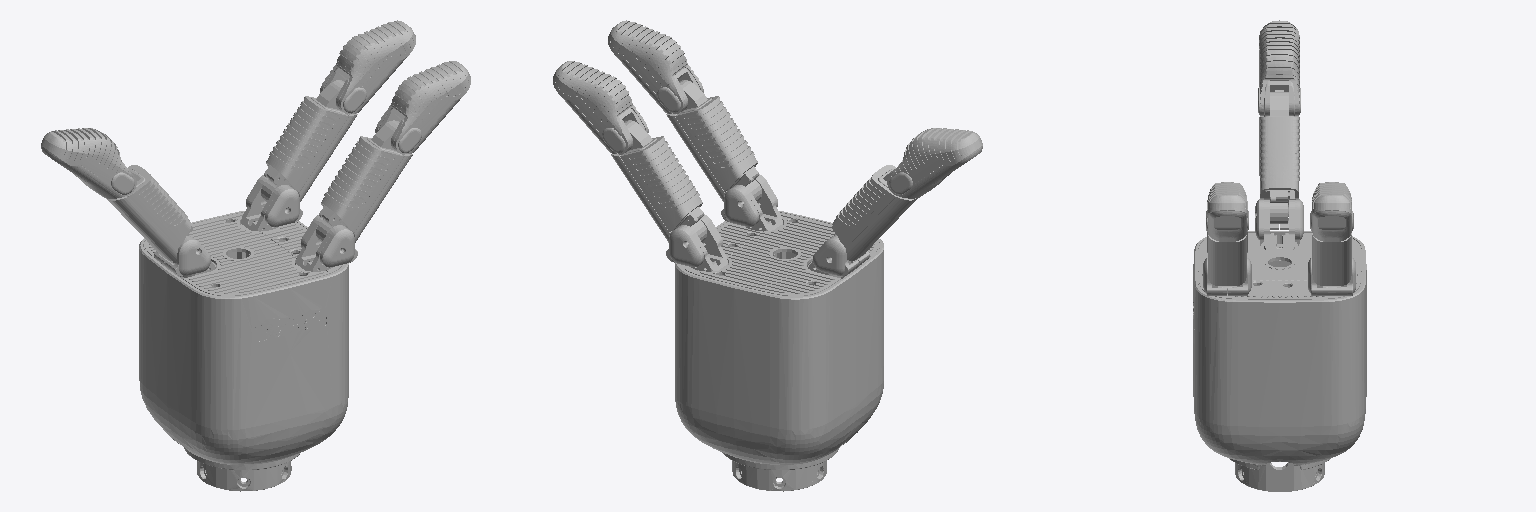
robot.urdf — coordinate4:
<?xml version="1.0" encoding="utf-8"?>
<!-- This URDF was automatically created by SolidWorks to URDF Exporter! Originally created by [author] ([email redacted]) 
     Commit Version: 1.6.0-4-g7f85cfe  Build Version: 1.6.7995.38578
     For more information, please see http://wiki.ros.org/sw_urdf_exporter -->
<robot
  name="coordinate4">
    <mujoco>
        <compiler 
        meshdir="../meshes" 
        balanceinertia="true" 
        discardvisual="false" />
  </mujoco>
  <link
    name="base_link">
    <inertial>
      <origin
        xyz="-0.00191677588032353 0.000174775635514336 0.0575139361931344"
        rpy="0 0 0" />
      <mass
        value="0.0984427785970004" />
      <inertia
        ixx="0.000148420378117239"
        ixy="3.97911918191049E-08"
        ixz="-8.27914969072719E-07"
        iyy="0.000140839054736399"
        iyz="-1.36911367834387E-07"
        izz="0.000141310117768838" />
    </inertial>
    <visual>
      <origin
        xyz="0 0 0"
        rpy="0 0 0" />
      <geometry>
        <mesh
          filename="package://coordinate4/meshes/base_link.STL" />
      </geometry>
      <material
        name="">
        <color
          rgba="0.752941176470588 0.752941176470588 0.752941176470588 1" />
      </material>
    </visual>
    <collision>
      <origin
        xyz="0 0 0"
        rpy="0 0 0" />
      <geometry>
        <mesh
          filename="package://coordinate4/meshes/base_link.STL" />
      </geometry>
    </collision>
  </link>
  <link
    name="link_f_1_2">
    <inertial>
      <origin
        xyz="0.0305572820573811 0.00186805458758646 -4.61996777537284E-06"
        rpy="0 0 0" />
      <mass
        value="0.00558145199789848" />
      <inertia
        ixx="2.97513301075175E-07"
        ixy="2.37439658923356E-08"
        ixz="2.44785040861203E-11"
        iyy="9.69242653369277E-07"
        iyz="-1.20191465847787E-11"
        izz="7.94112897407102E-07" />
    </inertial>
    <visual>
      <origin
        xyz="0 0 0"
        rpy="0 0 0" />
      <geometry>
        <mesh
          filename="package://coordinate4/meshes/link_f_1_2.STL" />
      </geometry>
      <material
        name="">
        <color
          rgba="0.752941176470588 0.752941176470588 0.752941176470588 1" />
      </material>
    </visual>
    <collision>
      <origin
        xyz="0 0 0"
        rpy="0 0 0" />
      <geometry>
        <mesh
          filename="package://coordinate4/meshes/link_f_1_2.STL" />
      </geometry>
    </collision>
  </link>
  <joint
    name="joint_f_1_2"
    type="revolute">
    <origin
      xyz="-0.0327008469900898 -0.000169468662848272 0.118401190998376"
      rpy="1.57079632679489 -0.911548765538365 3.14159264750984" />
    <parent
      link="base_link" />
    <child
      link="link_f_1_2" />
    <axis
      xyz="0 0 -1" />
    <limit
      lower="0"
      upper="0"
      effort="0"
      velocity="0" />
  </joint>
  <link
    name="link_f_1_3">
    <inertial>
      <origin
        xyz="0.0183787576712912 -0.00263032646592448 1.44924118507424E-06"
        rpy="0 0 0" />
      <mass
        value="0.00791151337363391" />
      <inertia
        ixx="4.6367463428106E-07"
        ixy="2.28523201882992E-07"
        ixz="1.49943815806137E-10"
        iyy="1.08682310565097E-06"
        iyz="-3.22539318167443E-11"
        izz="9.85673470581272E-07" />
    </inertial>
    <visual>
      <origin
        xyz="0 0 0"
        rpy="0 0 0" />
      <geometry>
        <mesh
          filename="package://coordinate4/meshes/link_f_1_3.STL" />
      </geometry>
      <material
        name="">
        <color
          rgba="0.752941176470588 0.752941176470588 0.752941176470588 1" />
      </material>
    </visual>
    <collision>
      <origin
        xyz="0 0 0"
        rpy="0 0 0" />
      <geometry>
        <mesh
          filename="package://coordinate4/meshes/link_f_1_3.STL" />
      </geometry>
    </collision>
  </link>
  <joint
    name="joint_f_1_3"
    type="revolute">
    <origin
      xyz="0.0566267969313633 0 0"
      rpy="0 0 0" />
    <parent
      link="link_f_1_2" />
    <child
      link="link_f_1_3" />
    <axis
      xyz="0 0 1" />
    <limit
      lower="0"
      upper="0"
      effort="0"
      velocity="0" />
  </joint>
  <link
    name="link_f_3_1">
    <inertial>
      <origin
        xyz="0.00518832571446791 0.000406680714066743 0.00716904401231155"
        rpy="0 0 0" />
      <mass
        value="0.0033857664225669" />
      <inertia
        ixx="1.87946231932708E-07"
        ixy="-2.66209160359618E-09"
        ixz="4.78387961289793E-08"
        iyy="2.21589396599336E-07"
        iyz="2.49049023659792E-09"
        izz="1.72755257875261E-07" />
    </inertial>
    <visual>
      <origin
        xyz="0 0 0"
        rpy="0 0 0" />
      <geometry>
        <mesh
          filename="package://coordinate4/meshes/link_f_3_1.STL" />
      </geometry>
      <material
        name="">
        <color
          rgba="0.752941176470588 0.752941176470588 0.752941176470588 1" />
      </material>
    </visual>
    <collision>
      <origin
        xyz="0 0 0"
        rpy="0 0 0" />
      <geometry>
        <mesh
          filename="package://coordinate4/meshes/link_f_3_1.STL" />
      </geometry>
    </collision>
  </link>
  <joint
    name="joint_f_3_1"
    type="revolute">
    <origin
      xyz="0.0229304804089818 -0.025131187879906 0.122110541735432"
      rpy="-3.14159265358978 0 0" />
    <parent
      link="base_link" />
    <child
      link="link_f_3_1" />
    <axis
      xyz="0 0 1" />
    <limit
      lower="0"
      upper="0"
      effort="0"
      velocity="0" />
  </joint>
  <link
    name="link_f_3_2">
    <inertial>
      <origin
        xyz="0.0268912864960582 0.00120182731331328 -4.62037826272702E-06"
        rpy="0 0 0" />
      <mass
        value="0.00558145376336512" />
      <inertia
        ixx="2.96739162405885E-07"
        ixy="6.56766703452091E-09"
        ixz="2.47374045865073E-11"
        iyy="9.70016904142213E-07"
        iyz="-1.13962891063174E-11"
        izz="7.9411294307384E-07" />
    </inertial>
    <visual>
      <origin
        xyz="0 0 0"
        rpy="0 0 0" />
      <geometry>
        <mesh
          filename="package://coordinate4/meshes/link_f_3_2.STL" />
      </geometry>
      <material
        name="">
        <color
          rgba="0.752941176470588 0.752941176470588 0.752941176470588 1" />
      </material>
    </visual>
    <collision>
      <origin
        xyz="0 0 0"
        rpy="0 0 0" />
      <geometry>
        <mesh
          filename="package://coordinate4/meshes/link_f_3_2.STL" />
      </geometry>
    </collision>
  </link>
  <joint
    name="joint_f_3_2"
    type="revolute">
    <origin
      xyz="0.00893269178656805 0 0"
      rpy="-1.57079632679489 0.886013477281569 0" />
    <parent
      link="link_f_3_1" />
    <child
      link="link_f_3_2" />
    <axis
      xyz="0 0 1" />
    <limit
      lower="0"
      upper="0"
      effort="0"
      velocity="0" />
  </joint>
  <link
    name="link_f_3_3">
    <inertial>
      <origin
        xyz="0.0184399249425371 -0.0021602131872714 1.44917369601302E-06"
        rpy="0 0 0" />
      <mass
        value="0.00791151346718725" />
      <inertia
        ixx="4.52415134496375E-07"
        ixy="2.12319889143749E-07"
        ixz="1.50721386324119E-10"
        iyy="1.0980826098443E-06"
        iyz="-2.84154770367718E-11"
        izz="9.85673468845333E-07" />
    </inertial>
    <visual>
      <origin
        xyz="0 0 0"
        rpy="0 0 0" />
      <geometry>
        <mesh
          filename="package://coordinate4/meshes/link_f_3_3.STL" />
      </geometry>
      <material
        name="">
        <color
          rgba="0.752941176470588 0.752941176470588 0.752941176470588 1" />
      </material>
    </visual>
    <collision>
      <origin
        xyz="0 0 0"
        rpy="0 0 0" />
      <geometry>
        <mesh
          filename="package://coordinate4/meshes/link_f_3_3.STL" />
      </geometry>
    </collision>
  </link>
  <joint
    name="joint_f_3_3"
    type="revolute">
    <origin
      xyz="0.0530000001597184 0 0"
      rpy="0 0 0" />
    <parent
      link="link_f_3_2" />
    <child
      link="link_f_3_3" />
    <axis
      xyz="0 0 -1" />
    <limit
      lower="0"
      upper="0"
      effort="0"
      velocity="0" />
  </joint>
  <link
    name="link_f_2_1">
    <inertial>
      <origin
        xyz="0.00518832571446903 -0.000406680714077928 -0.00716904401230714"
        rpy="0 0 0" />
      <mass
        value="0.00338576642257115" />
      <inertia
        ixx="1.87946231932769E-07"
        ixy="2.66209160359152E-09"
        ixz="-4.78387961289519E-08"
        iyy="2.21589396599501E-07"
        iyz="2.49049023659516E-09"
        izz="1.72755257875352E-07" />
    </inertial>
    <visual>
      <origin
        xyz="0 0 0"
        rpy="0 0 0" />
      <geometry>
        <mesh
          filename="package://coordinate4/meshes/link_f_2_1.STL" />
      </geometry>
      <material
        name="">
        <color
          rgba="0.752941176470588 0.752941176470588 0.752941176470588 1" />
      </material>
    </visual>
    <collision>
      <origin
        xyz="0 0 0"
        rpy="0 0 0" />
      <geometry>
        <mesh
          filename="package://coordinate4/meshes/link_f_2_1.STL" />
      </geometry>
    </collision>
  </link>
  <joint
    name="joint_f_2_1"
    type="revolute">
    <origin
      xyz="0.02293 0.024869 0.12211"
      rpy="0 0 0" />
    <parent
      link="base_link" />
    <child
      link="link_f_2_1" />
    <axis
      xyz="0 0 -1" />
    <limit
      lower="0"
      upper="0"
      effort="0"
      velocity="0" />
  </joint>
  <link
    name="link_f_2_2">
    <inertial>
      <origin
        xyz="0.0268912871878163 0.00120182629913353 -4.61965317296448E-06"
        rpy="0 0 0" />
      <mass
        value="0.00558145292076972" />
      <inertia
        ixx="2.96739127065093E-07"
        ixy="6.56766407487877E-09"
        ixz="2.47689951288221E-11"
        iyy="9.70016822655757E-07"
        iyz="-1.13981297758439E-11"
        izz="7.94112894055647E-07" />
    </inertial>
    <visual>
      <origin
        xyz="0 0 0"
        rpy="0 0 0" />
      <geometry>
        <mesh
          filename="package://coordinate4/meshes/link_f_2_2.STL" />
      </geometry>
      <material
        name="">
        <color
          rgba="0.752941176470588 0.752941176470588 0.752941176470588 1" />
      </material>
    </visual>
    <collision>
      <origin
        xyz="0 0 0"
        rpy="0 0 0" />
      <geometry>
        <mesh
          filename="package://coordinate4/meshes/link_f_2_2.STL" />
      </geometry>
    </collision>
  </link>
  <joint
    name="joint_f_2_2"
    type="revolute">
    <origin
      xyz="0.0089327 0 0"
      rpy="1.5708 -0.88601 0" />
    <parent
      link="link_f_2_1" />
    <child
      link="link_f_2_2" />
    <axis
      xyz="0 0 1" />
    <limit
      lower="0"
      upper="0"
      effort="0"
      velocity="0" />
  </joint>
  <link
    name="link_f_2_3">
    <inertial>
      <origin
        xyz="0.01844 -0.0021602 1.4486E-06"
        rpy="0 0 0" />
      <mass
        value="0.0079115" />
      <inertia
        ixx="4.5242E-07"
        ixy="2.1232E-07"
        ixz="1.5078E-10"
        iyy="1.0981E-06"
        iyz="-2.8423E-11"
        izz="9.8567E-07" />
    </inertial>
    <visual>
      <origin
        xyz="0 0 0"
        rpy="0 0 0" />
      <geometry>
        <mesh
          filename="package://coordinate4/meshes/link_f_2_3.STL" />
      </geometry>
      <material
        name="">
        <color
          rgba="0.75294 0.75294 0.75294 1" />
      </material>
    </visual>
    <collision>
      <origin
        xyz="0 0 0"
        rpy="0 0 0" />
      <geometry>
        <mesh
          filename="package://coordinate4/meshes/link_f_2_3.STL" />
      </geometry>
    </collision>
  </link>
  <joint
    name="joint_f_2_3"
    type="revolute">
    <origin
      xyz="0.053 0 0"
      rpy="0 0 0" />
    <parent
      link="link_f_2_2" />
    <child
      link="link_f_2_3" />
    <axis
      xyz="0 0 1" />
    <limit
      lower="0"
      upper="0"
      effort="0"
      velocity="0" />
  </joint>
</robot>

--- Facts derived from the render (not from the file) ---
Views: 3 orthographic renders of the robot side by side, from view 1: azimuth 30°, elevation 25°; view 2: azimuth 150°, elevation 25°; view 3: azimuth 270°, elevation 25°.
Robot: coordinate4 — 9 links, 8 joints (8 revolute); root link base_link; default pose: all joints at 0.
Visible links, largest first — view 1: base_link, link_f_2_2, link_f_3_2, link_f_3_3, link_f_2_3, link_f_1_3, link_f_1_2, link_f_3_1, link_f_2_1; view 2: base_link, link_f_3_2, link_f_2_2, link_f_2_3, link_f_3_3, link_f_1_3, link_f_1_2, link_f_2_1, link_f_3_1; view 3: base_link, link_f_1_2, link_f_1_3, link_f_2_3, link_f_3_3, link_f_3_2, link_f_2_2, link_f_3_1, link_f_2_1.
Link boxes in pixels (box(x1,y1,x2,y2)): base_link: box(139, 211, 348, 491); link_f_2_2: box(261, 80, 357, 201); link_f_3_2: box(316, 120, 412, 242); link_f_3_3: box(375, 61, 470, 154); link_f_2_3: box(320, 20, 415, 114); link_f_1_3: box(41, 128, 136, 198); link_f_1_2: box(106, 165, 192, 260); link_f_3_1: box(296, 215, 357, 275); link_f_2_1: box(241, 175, 302, 231); base_link: box(675, 211, 883, 491); link_f_3_2: box(666, 80, 761, 201); link_f_2_2: box(611, 120, 706, 242); link_f_2_3: box(553, 61, 648, 154); link_f_3_3: box(608, 20, 703, 113); link_f_1_3: box(887, 128, 982, 198); link_f_1_2: box(832, 165, 917, 260); link_f_2_1: box(666, 214, 727, 275); link_f_3_1: box(721, 174, 782, 235); base_link: box(1193, 199, 1366, 491); link_f_1_2: box(1259, 92, 1299, 223); link_f_1_3: box(1258, 20, 1300, 115); link_f_2_3: box(1310, 182, 1353, 241); link_f_3_3: box(1206, 182, 1248, 241); link_f_3_2: box(1207, 232, 1247, 285); link_f_2_2: box(1312, 233, 1351, 285); link_f_3_1: box(1203, 258, 1251, 295); link_f_2_1: box(1308, 258, 1355, 295).
Bounding box of the posed robot: 0.207 × 0.0829 × 0.1923 m (x, y, z).
Meshes: 9 distinct files referenced, 9 mesh visuals loaded (9 binary STL).